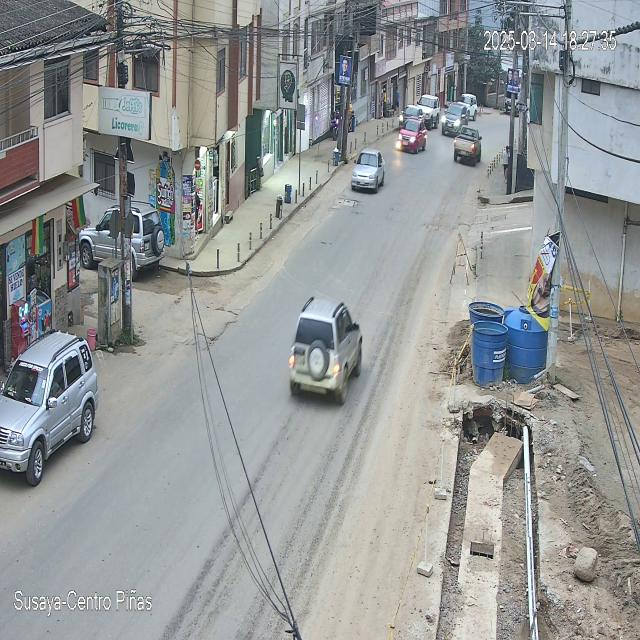SUV: (287, 296, 363, 408)
